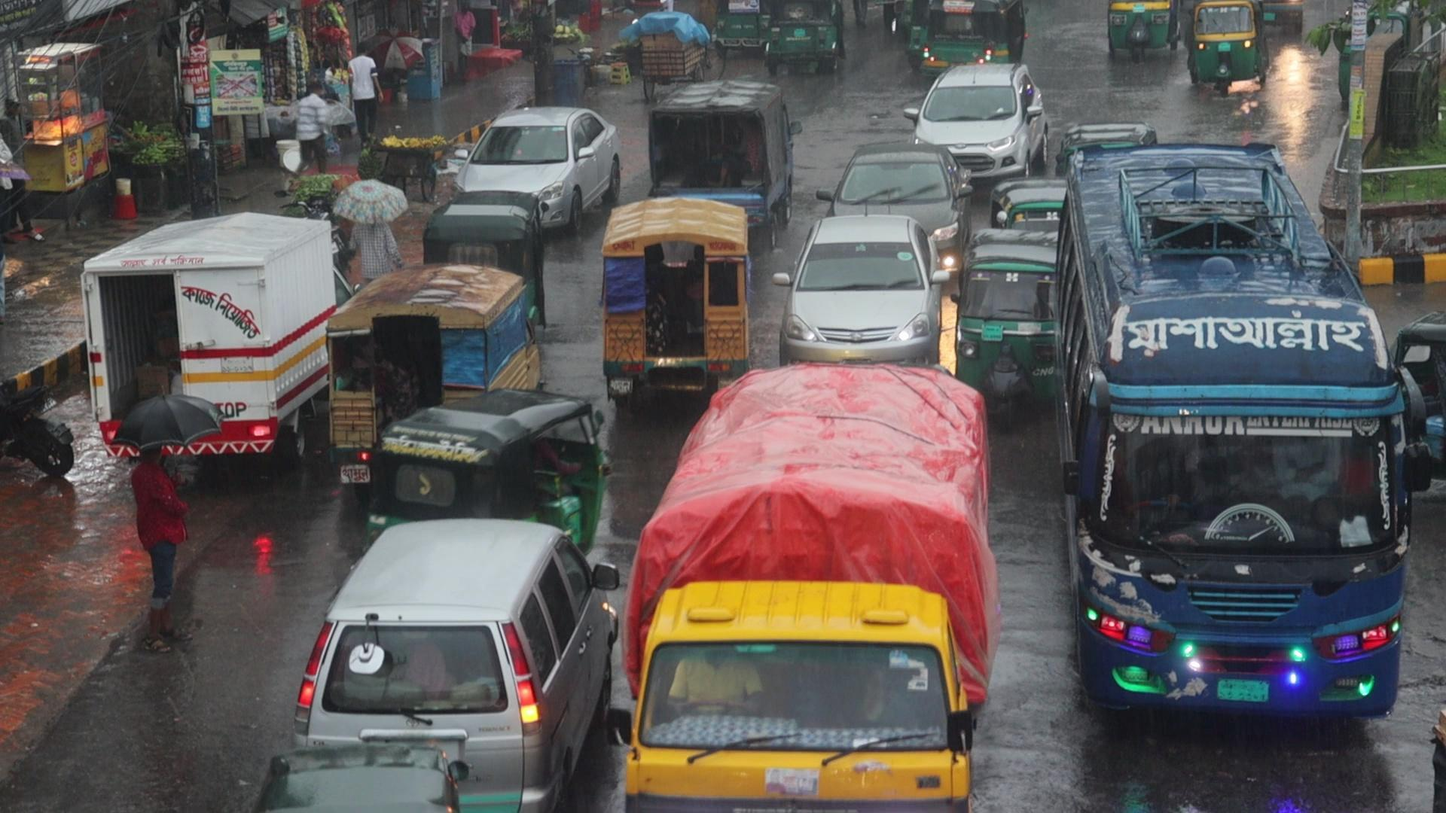Bus: (1053, 134, 1411, 726)
Car: (281, 508, 615, 780), (773, 211, 943, 361), (898, 60, 1053, 154)
Truck: (621, 357, 994, 812), (319, 263, 537, 397), (598, 189, 752, 364), (646, 76, 790, 191)
